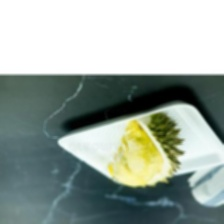foam_box: (53, 96, 223, 191)
